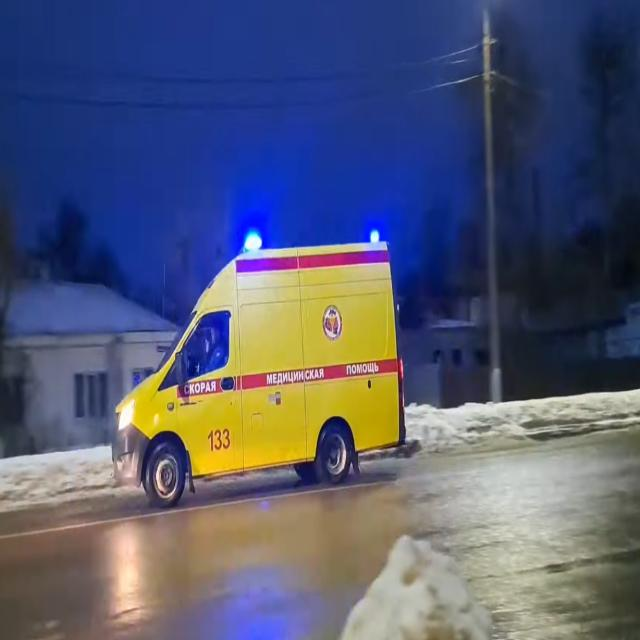intensive care unit: (112, 228, 408, 511)
